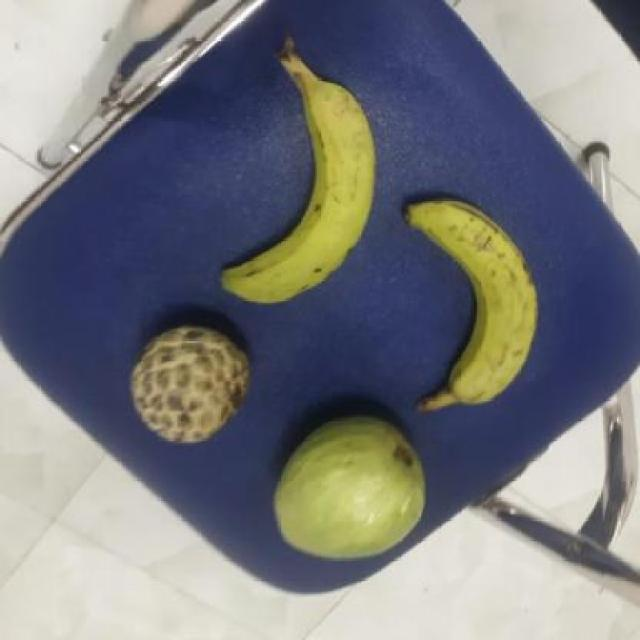banana: (212, 69, 376, 300), (398, 202, 538, 416)
guava: (275, 412, 427, 566)
sugar apple: (121, 323, 248, 446)
